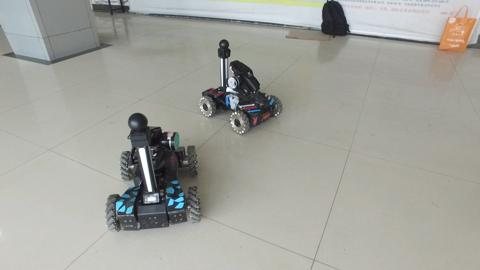chariot: (101, 110, 201, 237), (195, 39, 284, 140)
